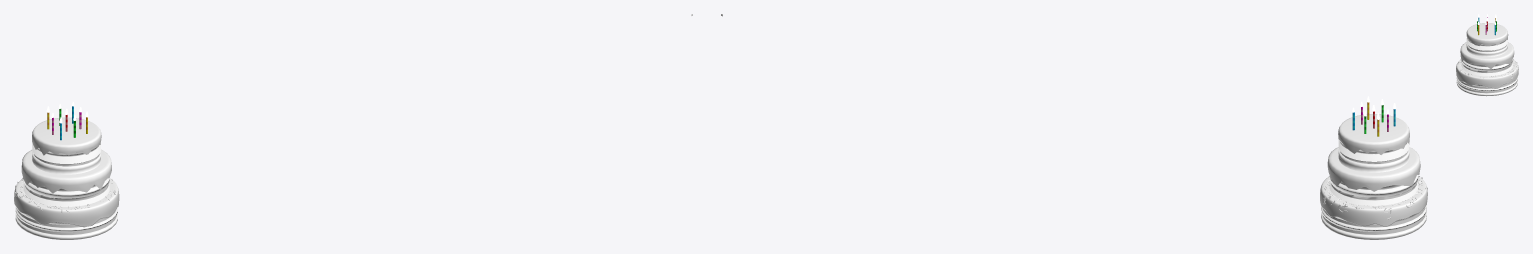
Rendered from baday_cake.glb.
3 views of the same model, side by side, from view 1: azimuth 30°, elevation 25°; view 2: azimuth 150°, elevation 25°; view 3: azimuth 270°, elevation 25° (orthographic). The views are drawn at different scales.
Parts seen in each view (by area): view 1: Cylinder, Cylinder.001, Cylinder.003, Cylinder.002; view 2: Cylinder, Cylinder.001, Cylinder.003, Cylinder.002; view 3: Cylinder, Cylinder.001, Cylinder.003, Cylinder.002.
Boxes of the visible parts, <box> form: Cylinder: <box>15,142,117,239</box>; Cylinder.001: <box>14,178,119,227</box>; Cylinder.003: <box>32,117,101,155</box>; Cylinder.002: <box>21,149,111,193</box>; Cylinder: <box>1321,140,1426,239</box>; Cylinder.001: <box>1320,176,1427,226</box>; Cylinder.003: <box>1338,114,1409,154</box>; Cylinder.002: <box>1327,147,1420,191</box>; Cylinder: <box>1456,38,1517,96</box>; Cylinder.001: <box>1456,59,1518,88</box>; Cylinder.003: <box>1466,23,1508,46</box>; Cylinder.002: <box>1460,42,1514,68</box>.
Size of the model in its own units: 15.17 by 2.37 by 2.04.
